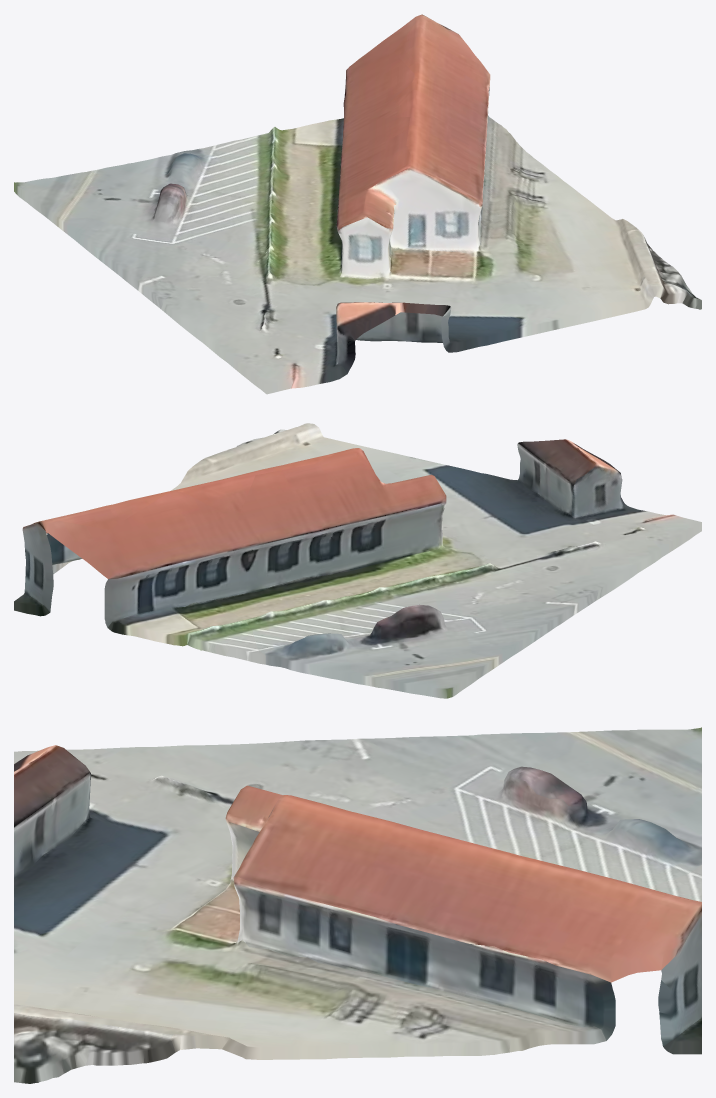
The model's file is z20-167564-405172-h0-yup-uvflip-v3-world.glb.
The picture shows the model from 3 angles, top to bottom: view 1: azimuth 30°, elevation 25°; view 2: azimuth 150°, elevation 25°; view 3: azimuth 270°, elevation 25°; orthographic projection. The views are drawn at different scales.
Bounding box in the file's own units: 30.16 × 7.84 × 30.32.
1 material, 1 textured.
